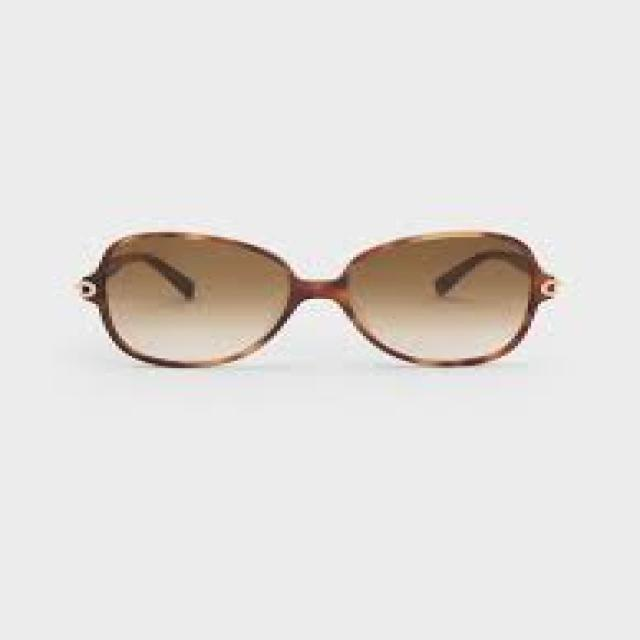sunglasses: (69, 229, 561, 367)
